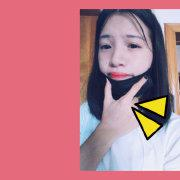WRONG: (97, 32, 161, 96)
